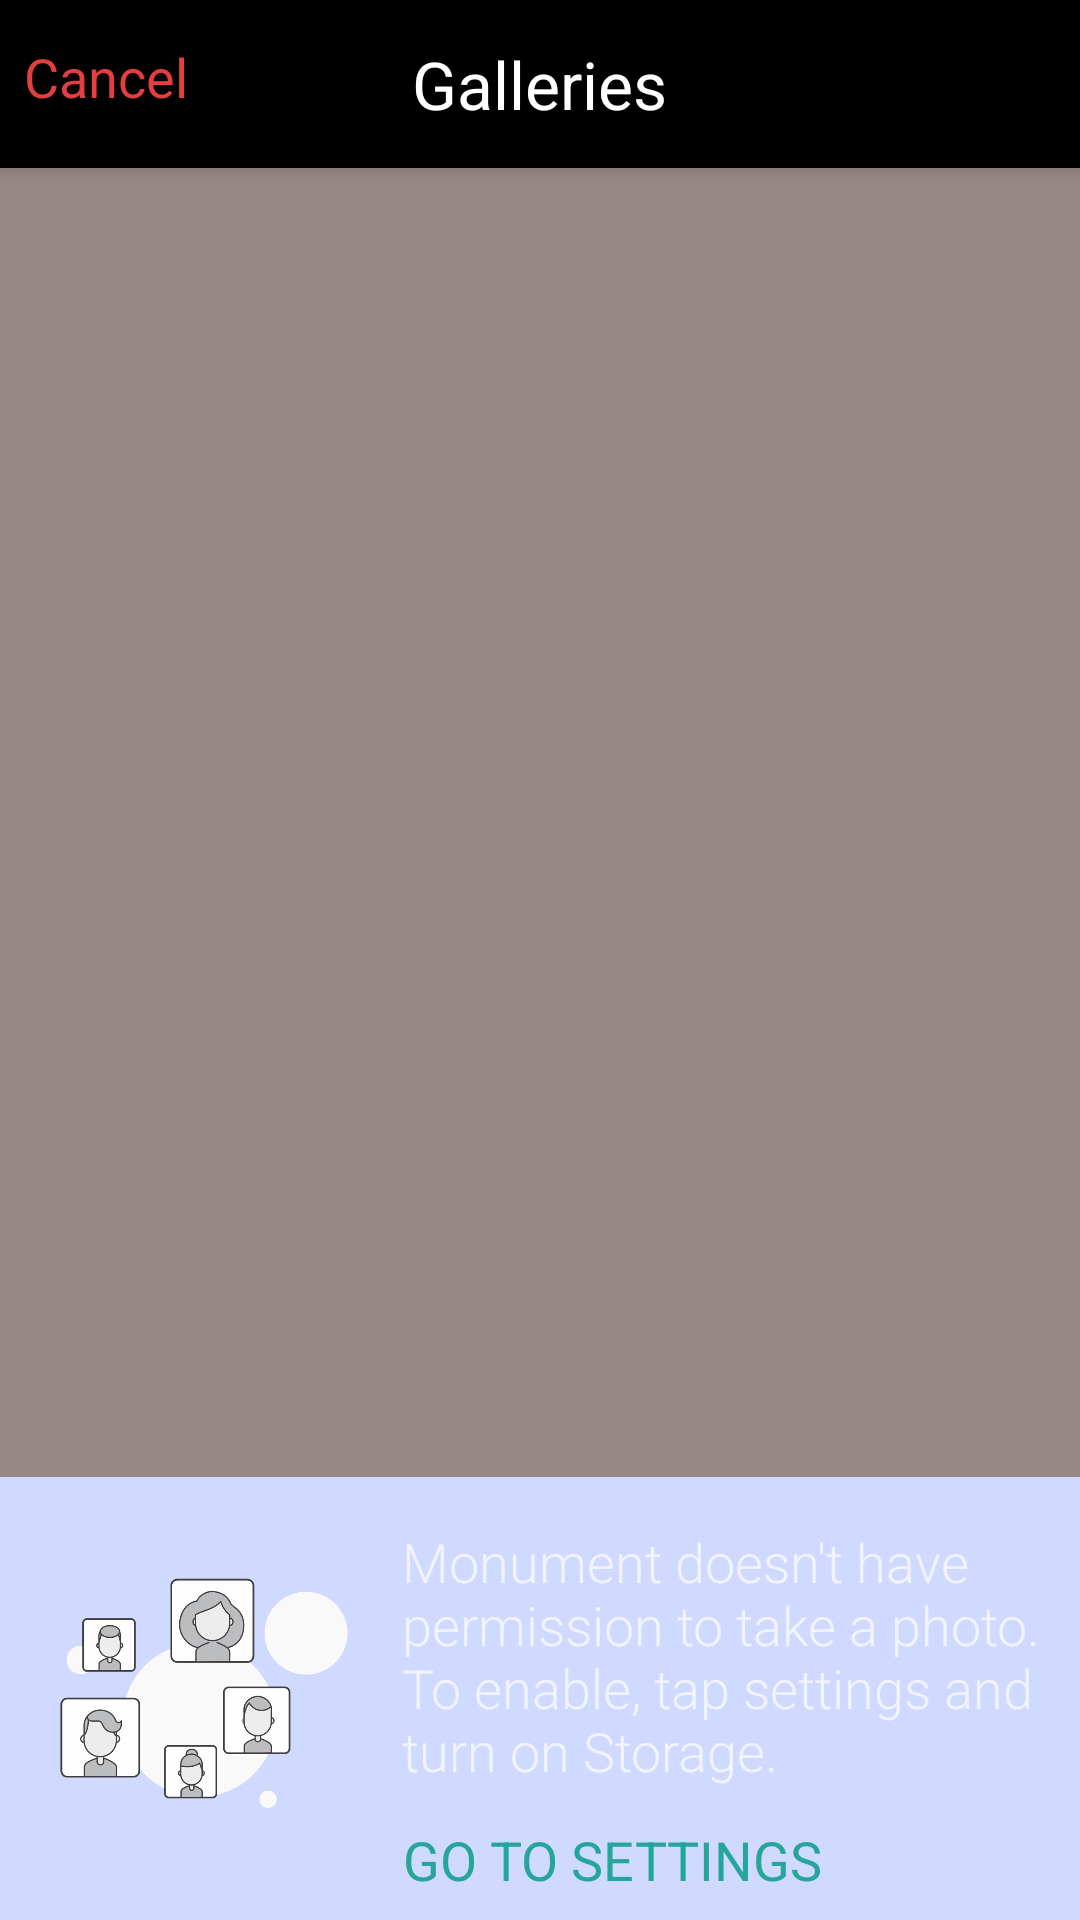

Icon bounding boxes for this 1080 × 1920 phone screenshot, format box(x1, y1, x2, y2):
contact empty: box(60, 1578, 347, 1808)
